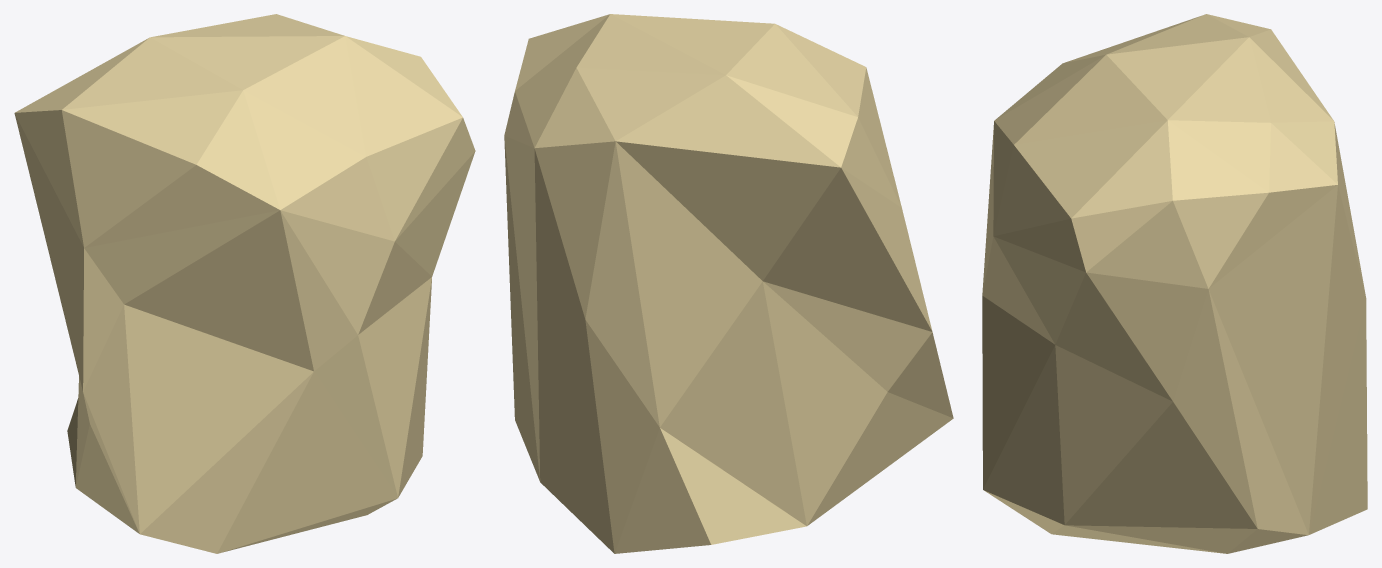
Rendered from Rock (32).fbx.
3 views of the same model, side by side, from view 1: azimuth 30°, elevation 25°; view 2: azimuth 150°, elevation 25°; view 3: azimuth 270°, elevation 25° (orthographic).
Parts seen in each view (by area): view 1: Asteroid31; view 2: Asteroid31; view 3: Asteroid31.
Part boxes in pixels (x1,y1,x2,y2): Asteroid31: [14, 14, 475, 553]; Asteroid31: [504, 14, 953, 553]; Asteroid31: [982, 14, 1367, 553].
Bounding box in the file's own units: 189 × 217 × 165.
